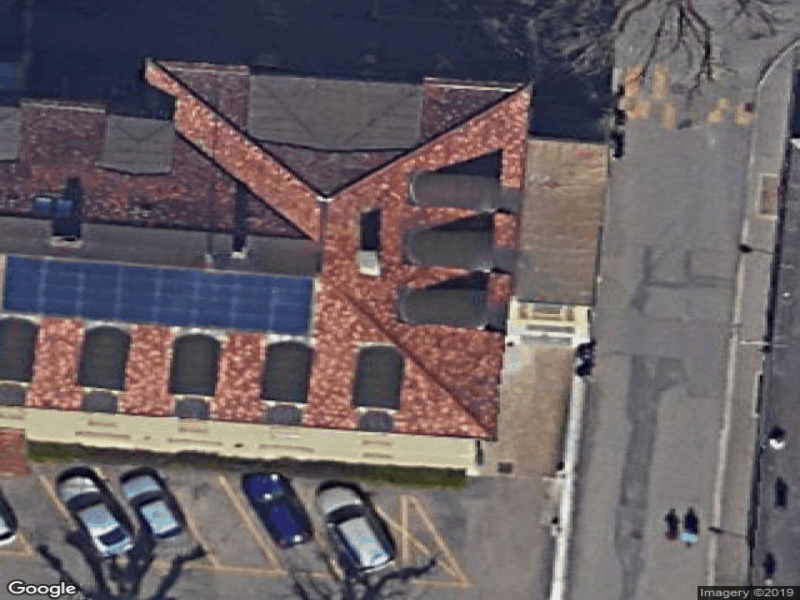pv: (2, 255, 314, 338)
